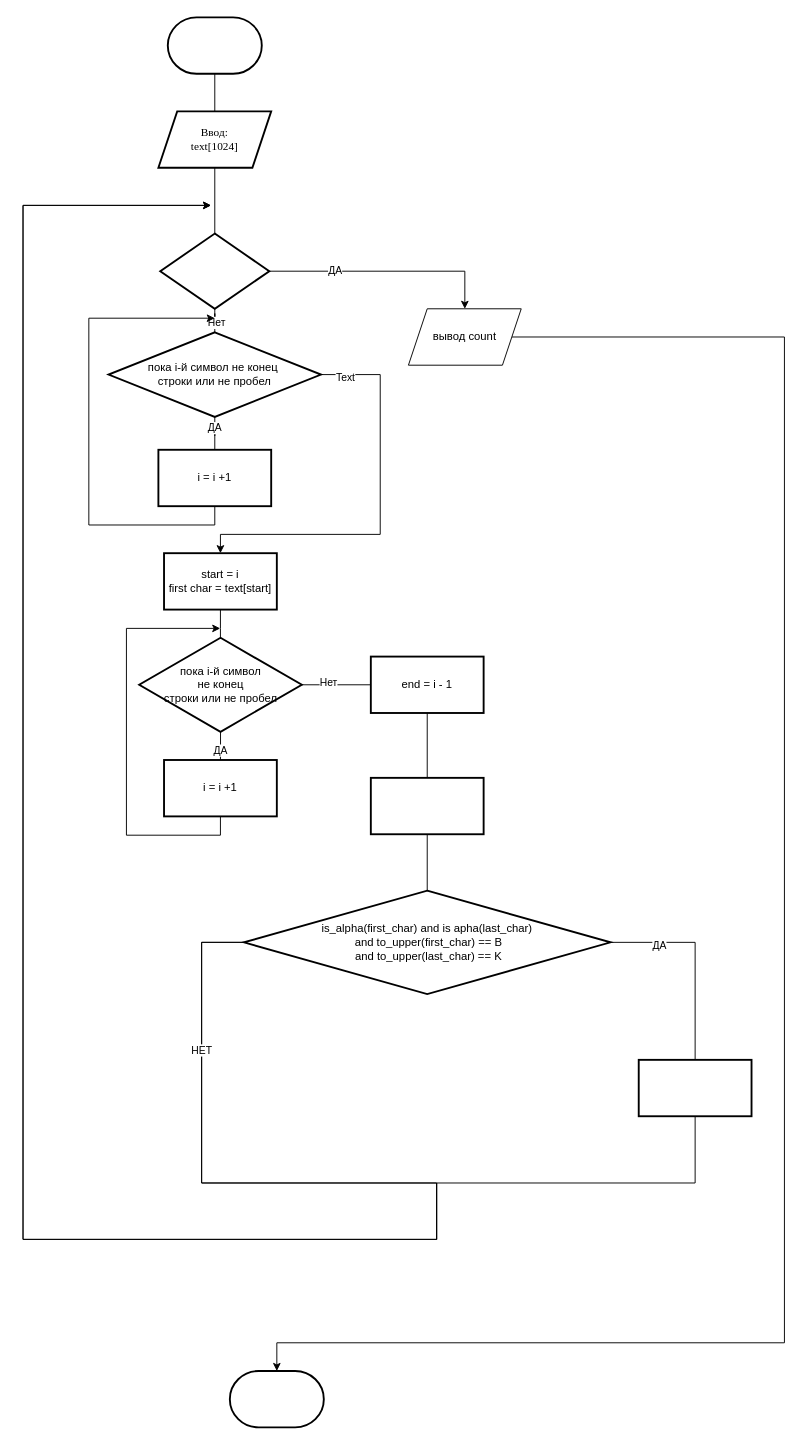
Some shapes in this 808 by 1444 pixel diagram are drawn without their labels. The centre of each missing label's shape, as x and y in pixels:
"count = count + 1" belongs at (x=694, y=1087).
"last char = text[end]" belongs at (x=426, y=805).
"Конец" belongs at (x=276, y=1399).
"Начало" belongs at (x=214, y=45).
"пока не конец строки" belongs at (x=214, y=270).
